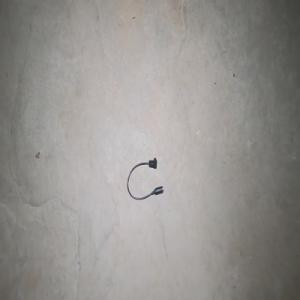Wire: (127, 157, 163, 200)
